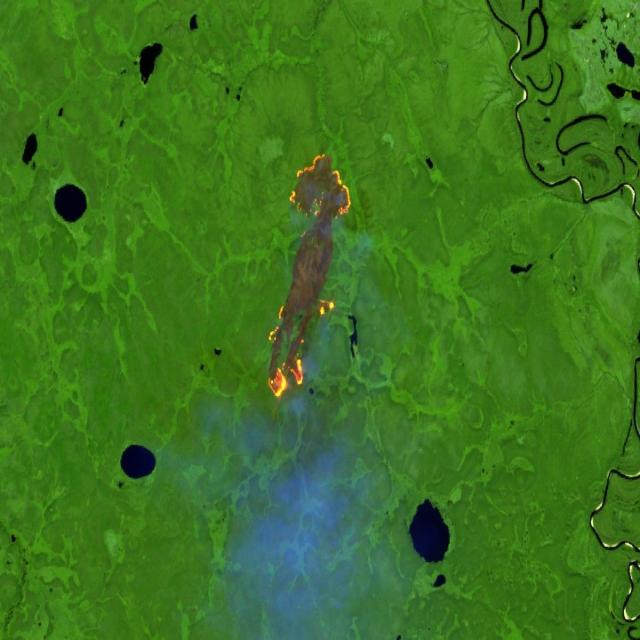fire: (259, 148, 348, 405)
